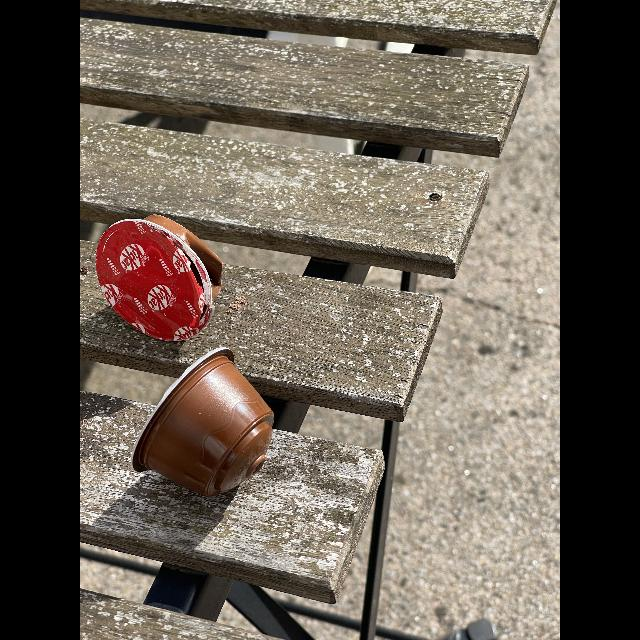damaged_capsule: (90, 202, 226, 346)
intact_capsule: (122, 342, 292, 506)
